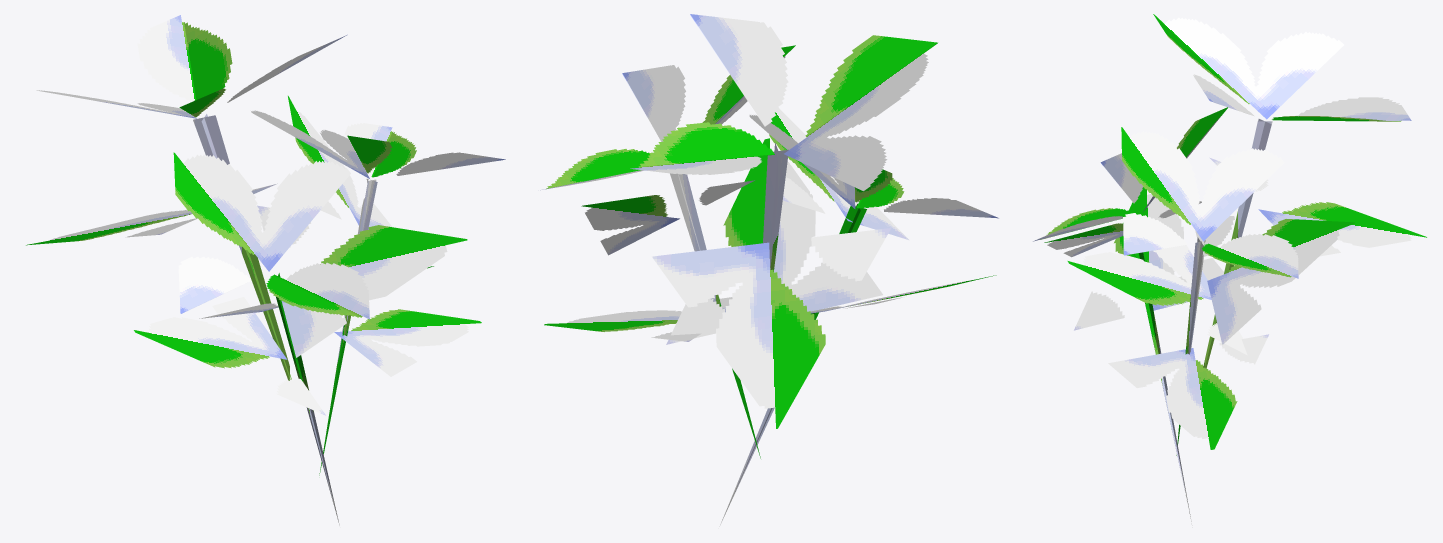
The model's file is flower.obj.
3 views of the same model, side by side, from view 1: azimuth 30°, elevation 25°; view 2: azimuth 150°, elevation 25°; view 3: azimuth 270°, elevation 25° (orthographic). The views are drawn at different scales.
Visible parts, largest first — view 1: OhanaVert.bin; view 2: OhanaVert.bin; view 3: OhanaVert.bin.
Part boxes in pixels (left/top/right/bottom): OhanaVert.bin: left=26, top=15, right=505, bottom=525; OhanaVert.bin: left=540, top=14, right=998, bottom=526; OhanaVert.bin: left=1033, top=14, right=1426, bottom=525.
Bounding box in the file's own units: 48.22 × 56.43 × 46.81.
1 material, 1 textured.
